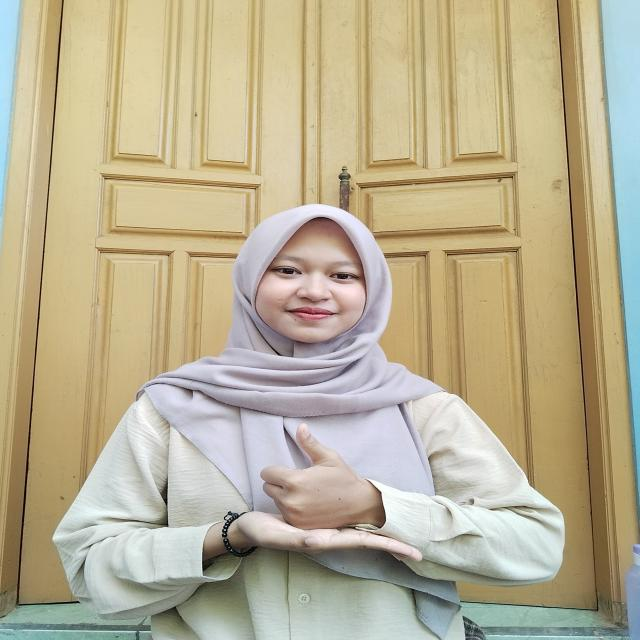cantik: (190, 403, 426, 580)
